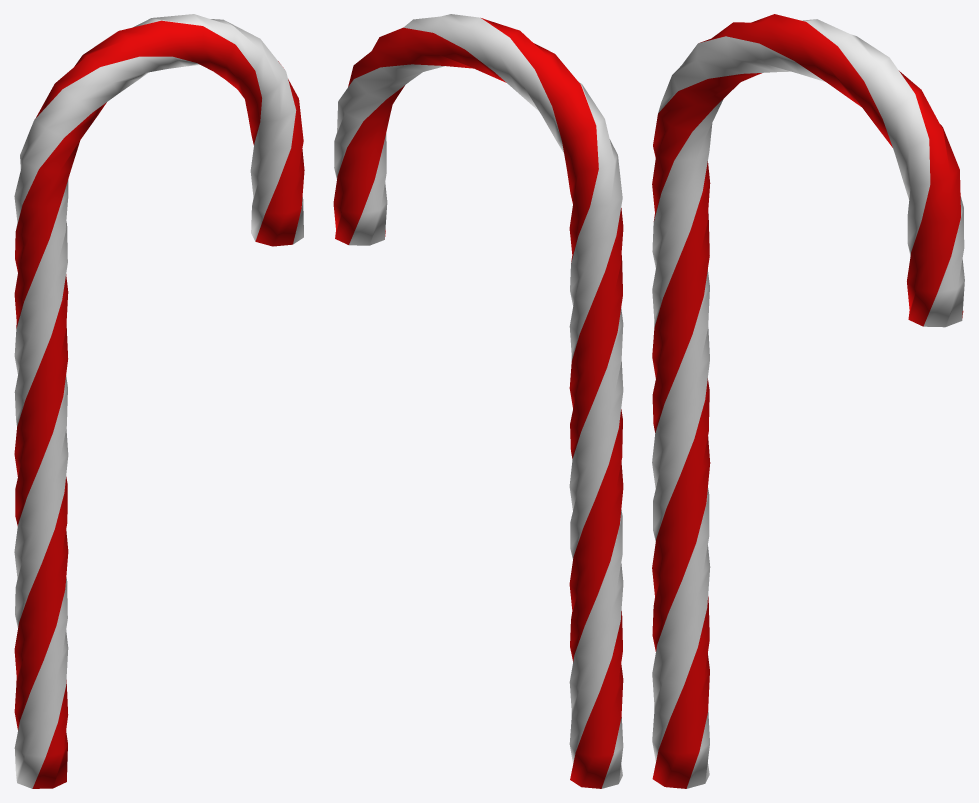
Rendered from Candy Cane.fbx.
3 renders of one model, left to right at view 1: azimuth 30°, elevation 25°; view 2: azimuth 150°, elevation 25°; view 3: azimuth 330°, elevation 25°, orthographic. The views are drawn at different scales.
Visible parts, largest first — view 1: candy_Cane; view 2: candy_Cane; view 3: candy_Cane.
Part boxes in pixels (bbox=[...]): candy_Cane: bbox=[14, 14, 304, 788]; candy_Cane: bbox=[333, 14, 623, 788]; candy_Cane: bbox=[652, 14, 964, 788].
Bounding box in the file's own units: 1.74 × 4.3 × 0.288.
